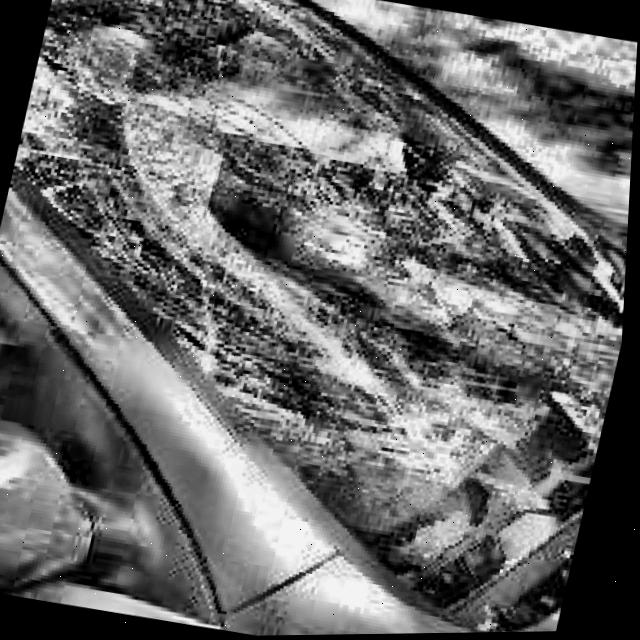glass_shatter: (20, 90, 375, 371), (327, 353, 514, 500)
